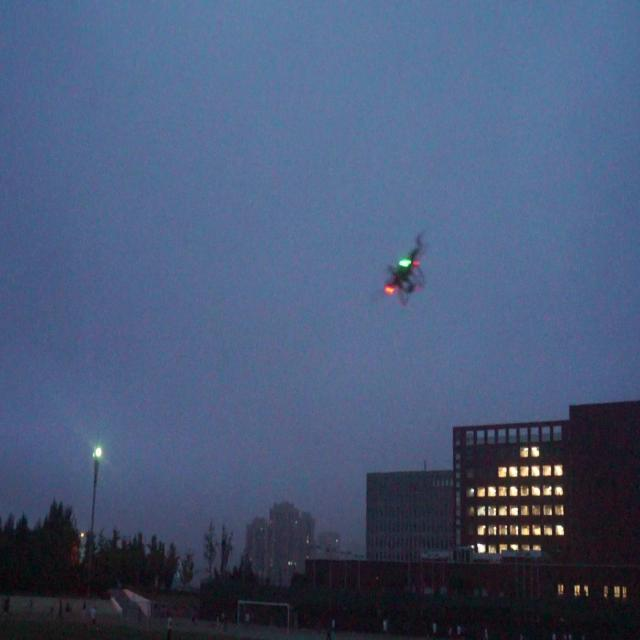drone: (375, 224, 438, 306)
